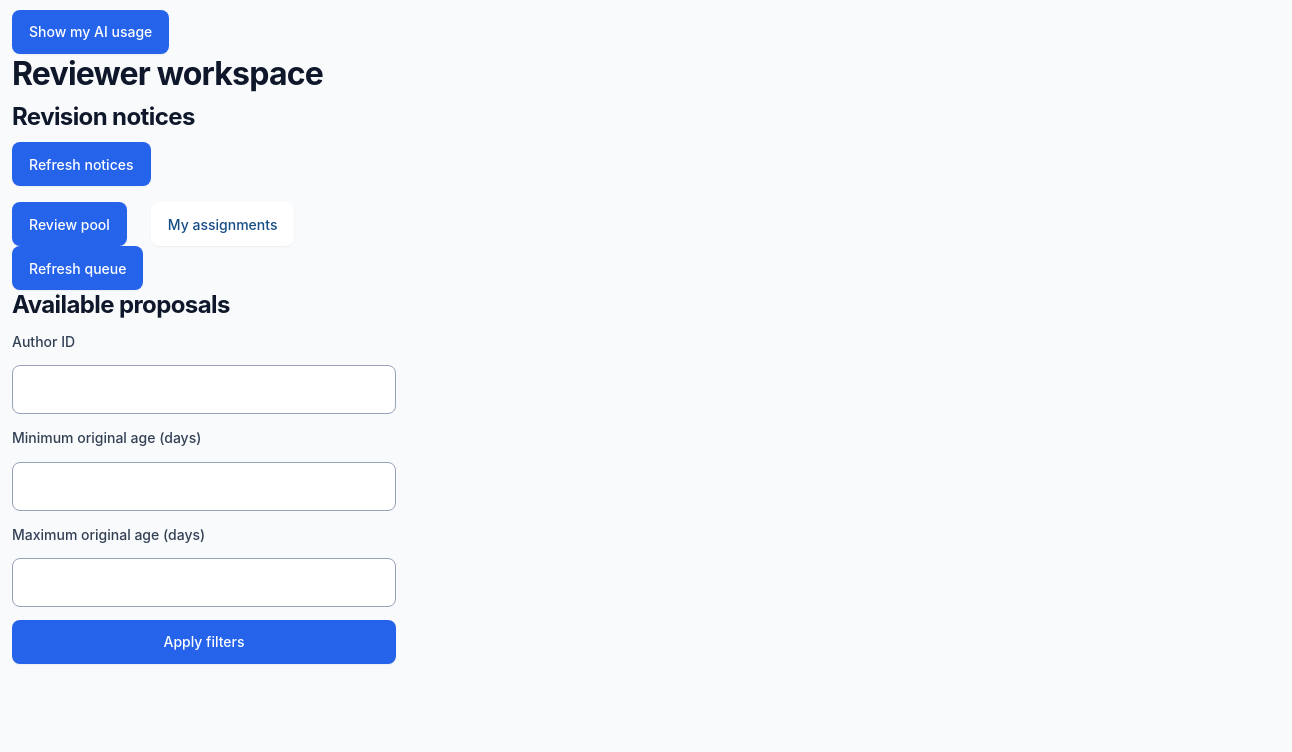
Test: Reviewer usage › is reachable without an assignment and labels Reviewer-only accounting, SGT/UTC, unknown usage, real zero and outbound failures
Click the button "Show my AI usage": click(91, 32) [12,10,169,54]
(page scrolled)
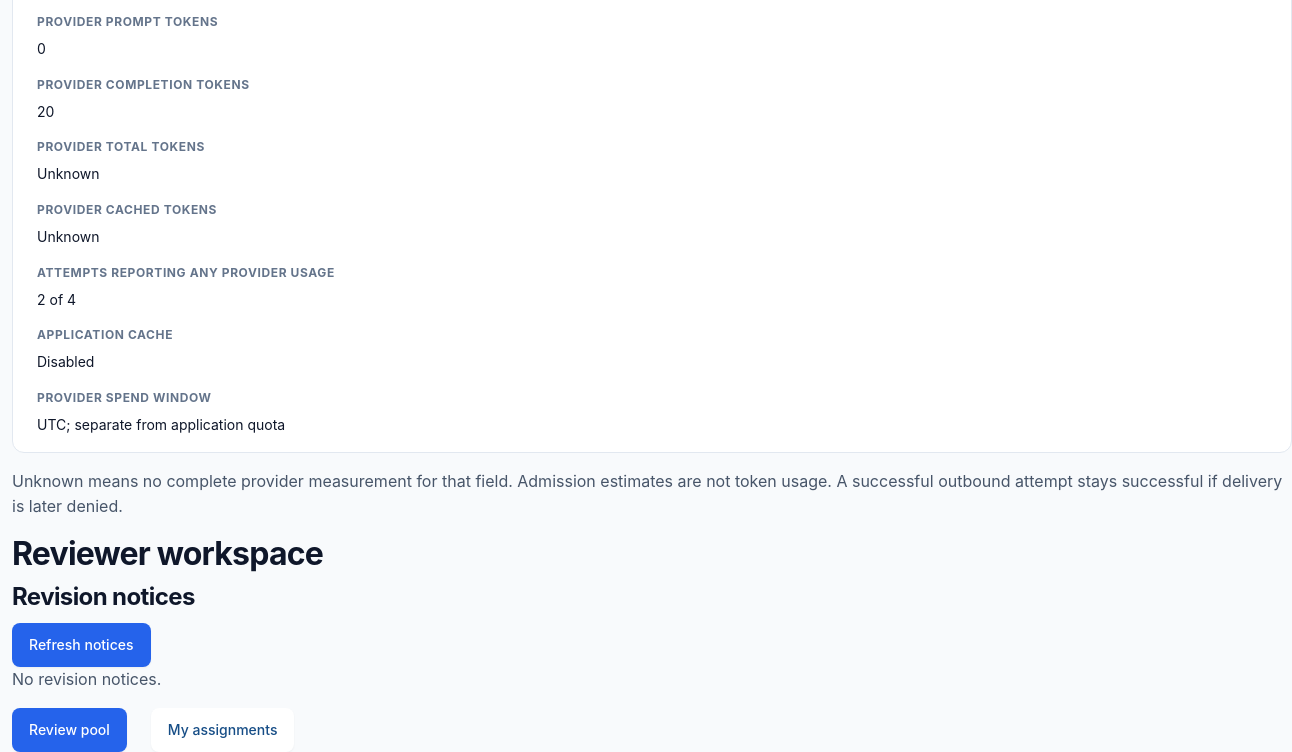
Expected: the text "Provider total tokens" is shown, [37,139,205,154]
Expected: the text "UTC; separate from application quota" is shown, [37,416,285,433]
Expected: the text "Unknown" is shown 2 times, [37,165,100,182]; [37,228,100,245]
